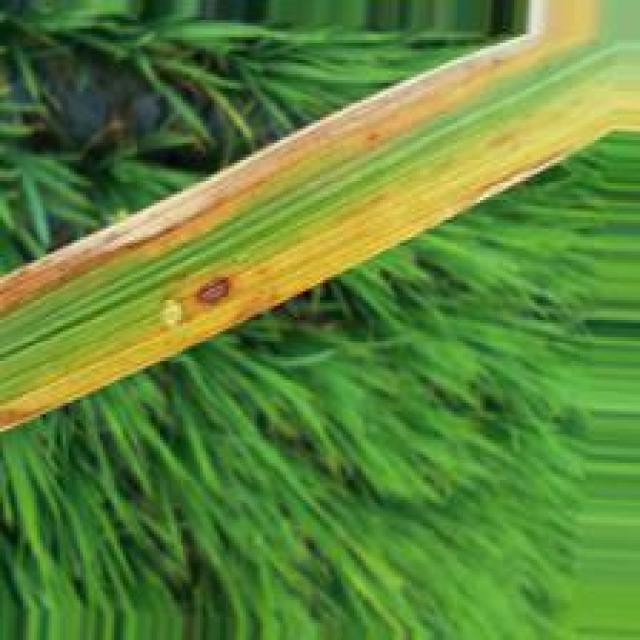Bacterial_Leaf_Blight: (0, 6, 625, 434)
